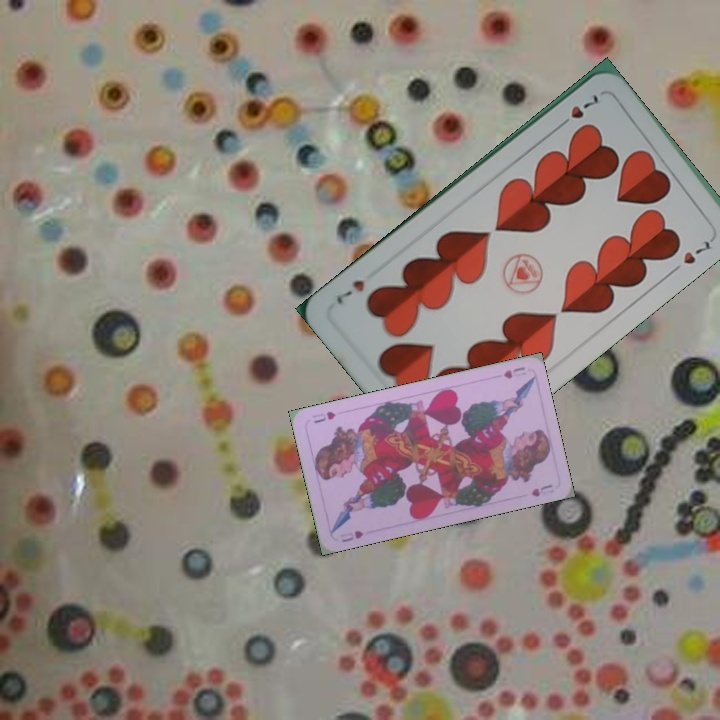H7: (553, 90, 601, 132)
HU: (338, 526, 366, 545), (499, 363, 527, 381)
